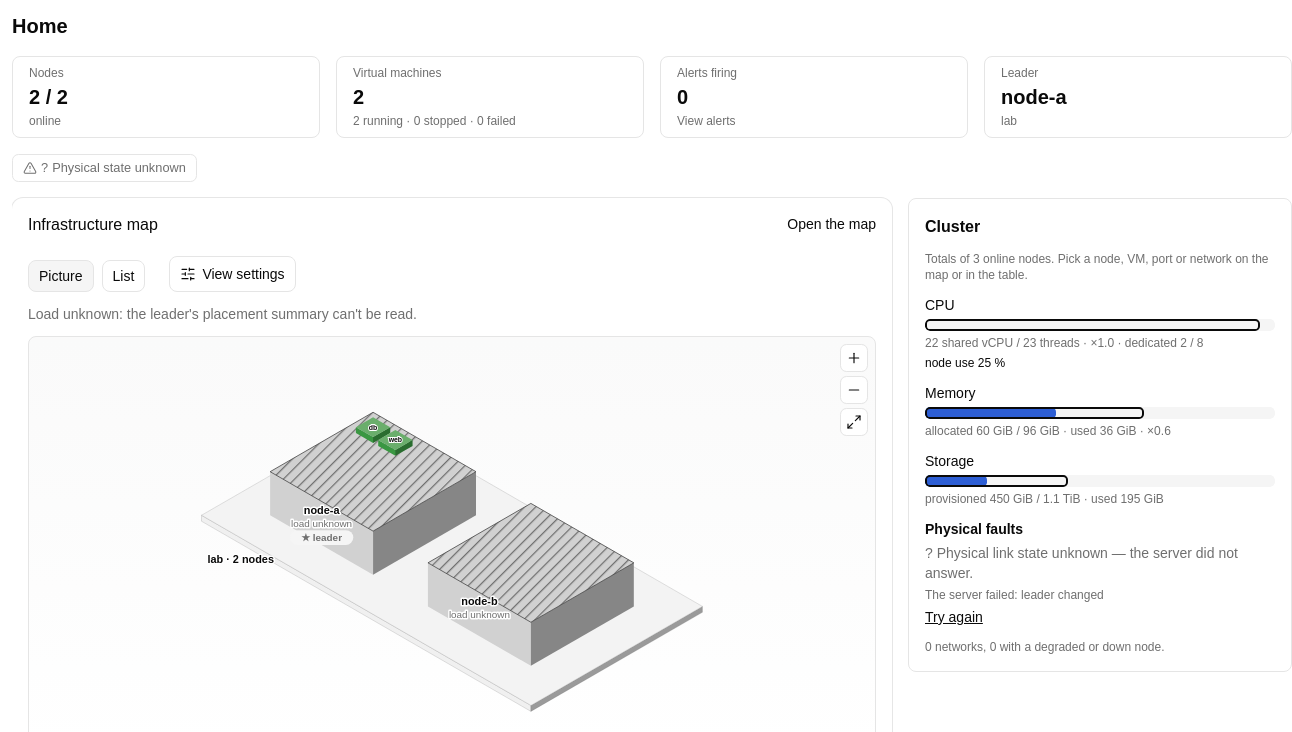
Test: says the physical state is unknown instead of 'no faults' when it cannot be read
This screenshot has width=1292, height=732.
Expected: the text "? Physical link state unknown — the server did not answer." is shown, [925, 543, 1275, 583]
Click the button "? Physical state unknown" at (104, 168), box [12, 154, 197, 182]
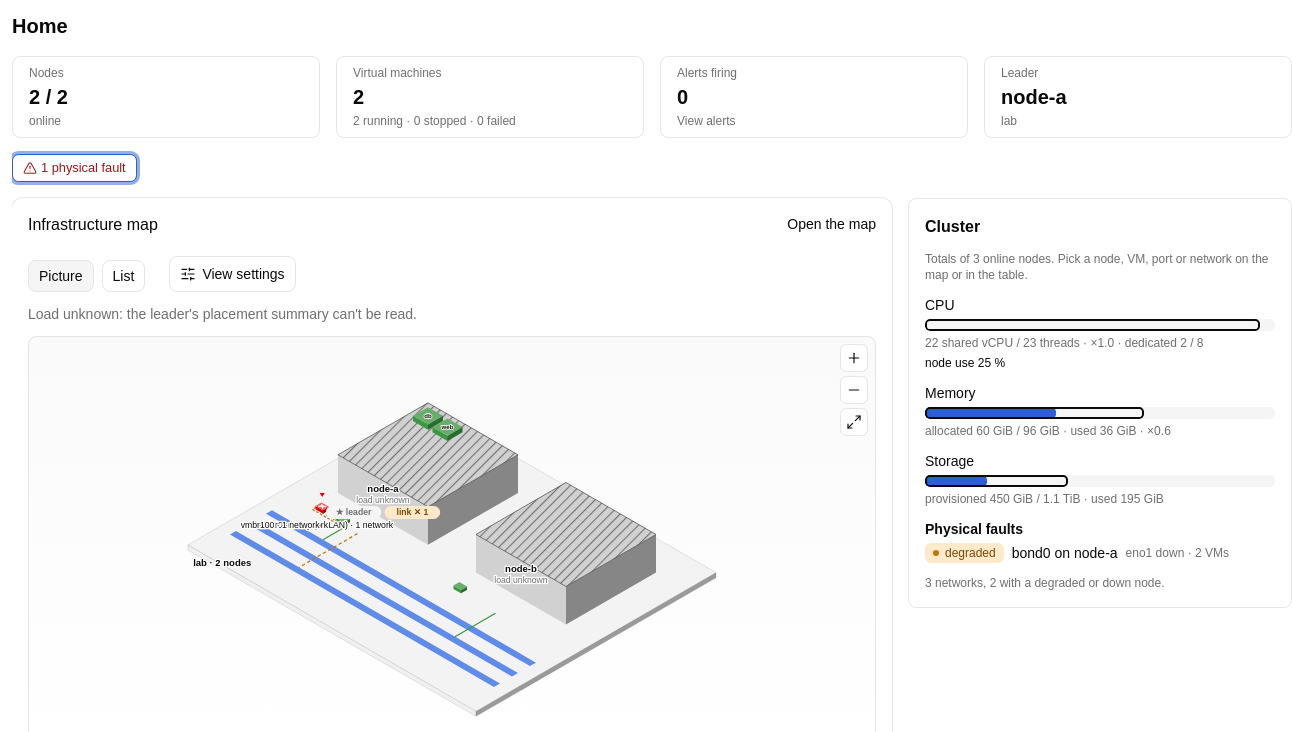
Result: the button "bond0 on node-a" is shown at [1012, 543, 1118, 563]
Result: the button "1 physical fault" is shown at [12, 154, 137, 182]
